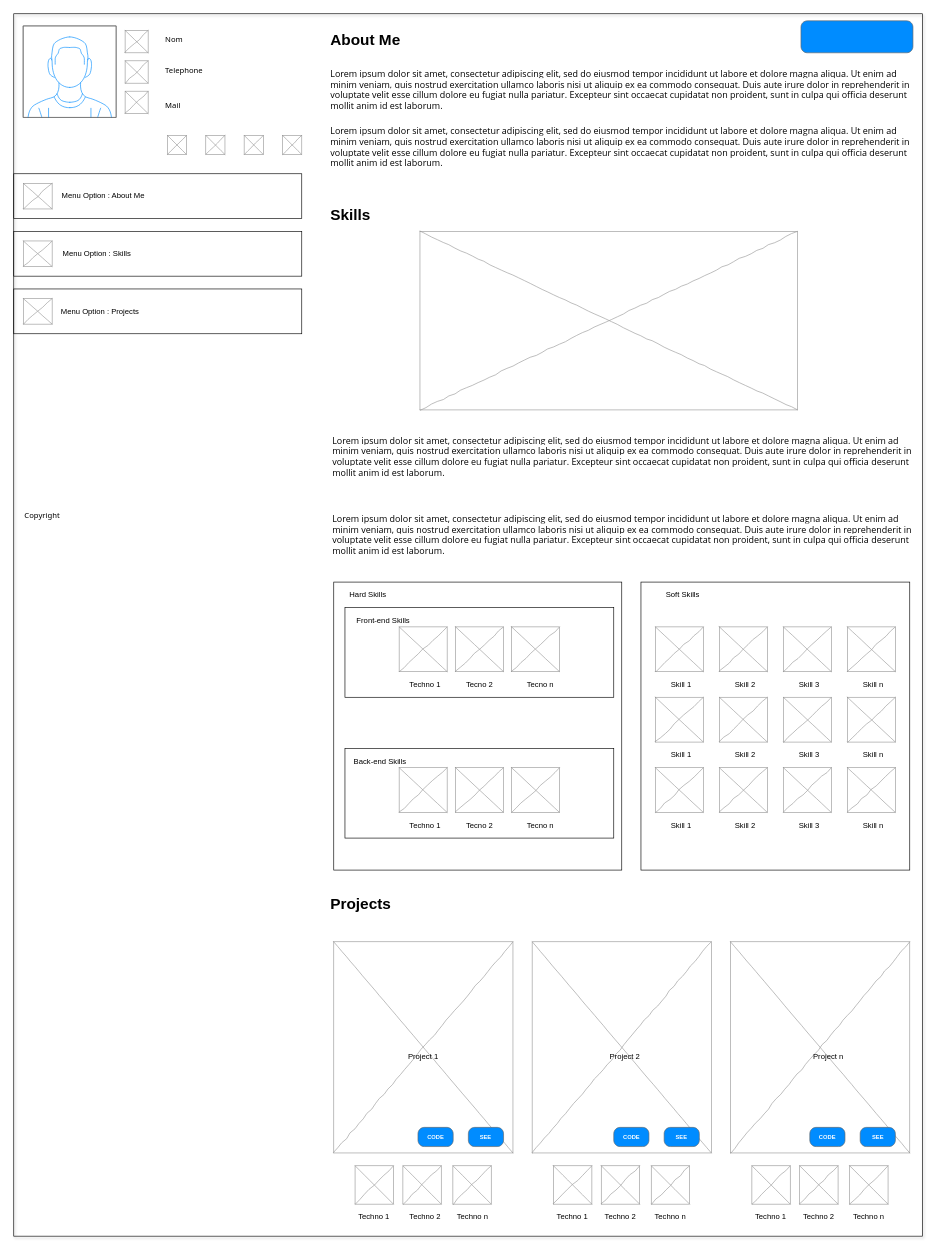
This 938x1252 diagram has some shape labels left out. The shapes that lost their labels are listed below. From the top down, each one's centre as x and y in pixels, then its label:
point 856,36: Resume
point 608,320: Fig. Caption
